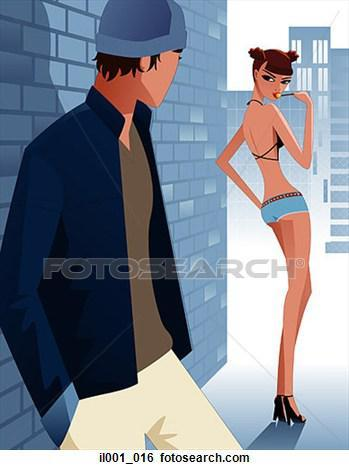person: (1, 1, 245, 448), (210, 44, 316, 428)
